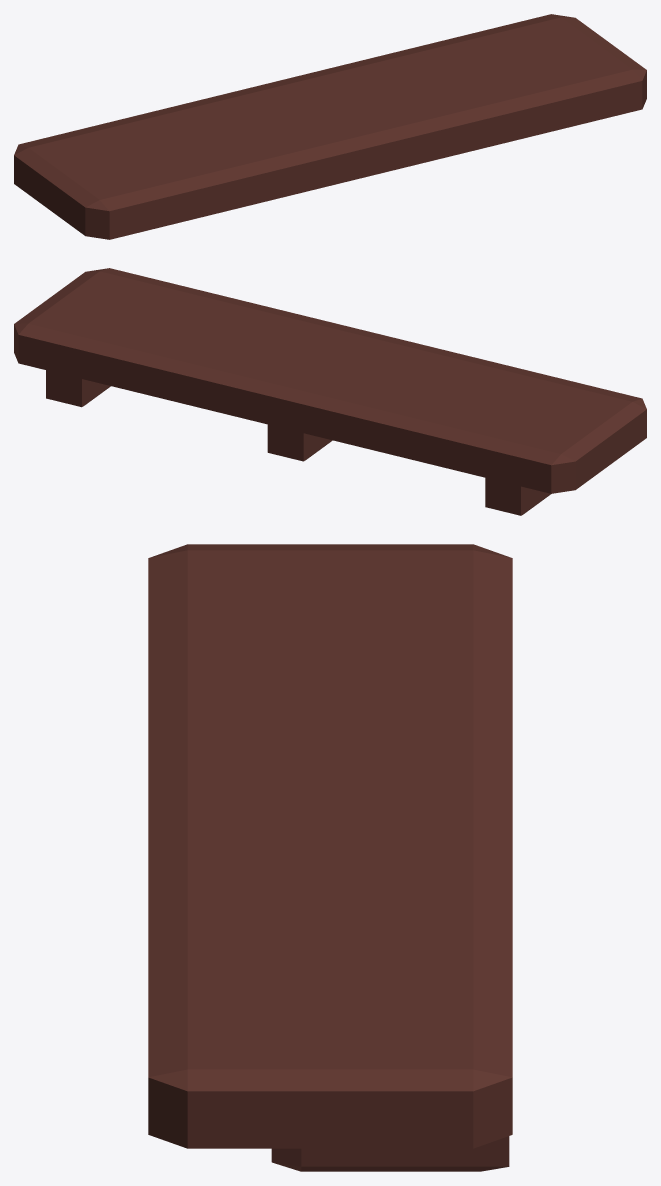
Rendered from wall_shelf.fbx.
The picture shows the model from 3 angles, top to bottom: view 1: azimuth 30°, elevation 25°; view 2: azimuth 150°, elevation 25°; view 3: azimuth 270°, elevation 25°; orthographic projection. The views are drawn at different scales.
Parts seen in each view (by area): view 1: wall_shelf; view 2: wall_shelf; view 3: wall_shelf.
Part boxes in pixels (x1,y1,x2,y2): wall_shelf: (14, 14, 646, 239); wall_shelf: (14, 268, 646, 515); wall_shelf: (148, 544, 512, 1171).
Bounding box in the file's own units: 149 × 17.25 × 42.01.
